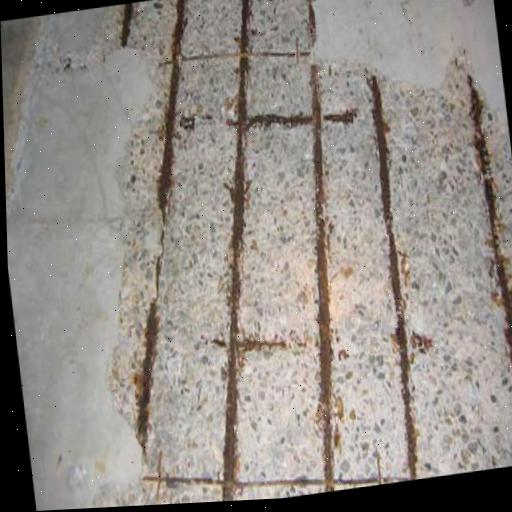exposed_rebar: (137, 0, 187, 455), (367, 74, 418, 480), (222, 0, 252, 501), (467, 74, 512, 370), (310, 64, 335, 492), (237, 476, 324, 490), (143, 474, 223, 487), (249, 114, 313, 127), (238, 338, 289, 353), (182, 50, 240, 62), (250, 49, 310, 59), (306, 0, 317, 49), (121, 3, 132, 48), (324, 109, 358, 123), (335, 477, 377, 486), (180, 118, 195, 130), (212, 340, 226, 346), (393, 477, 408, 482), (227, 119, 235, 126)
spalling: (36, 0, 512, 508)
